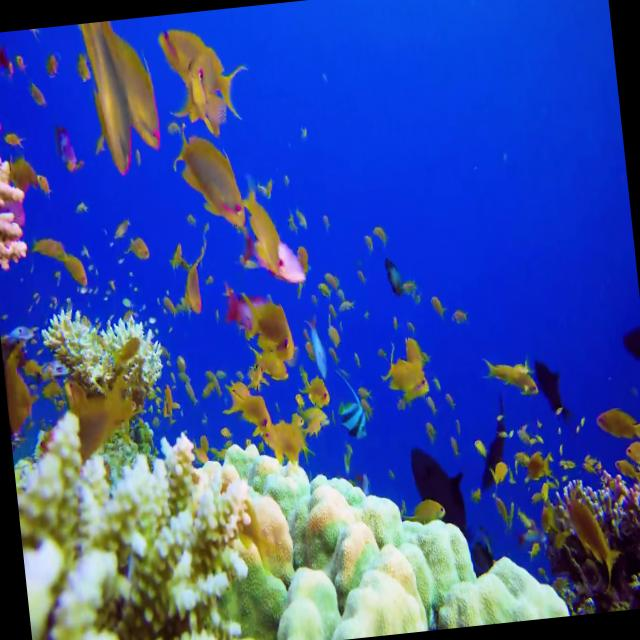fish: (153, 16, 244, 126), (172, 117, 248, 235), (82, 19, 136, 178), (101, 17, 162, 152), (212, 288, 291, 356), (566, 492, 623, 586), (532, 358, 581, 438), (382, 344, 430, 406), (483, 351, 541, 402), (593, 404, 640, 444), (336, 393, 370, 442)
